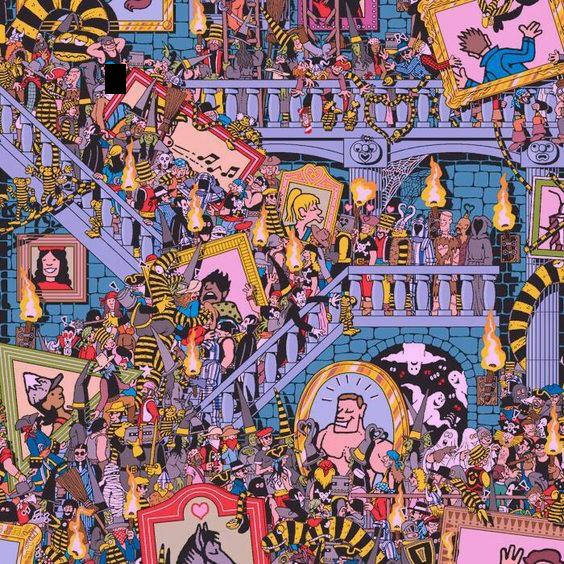waldos: (294, 105, 315, 135)
